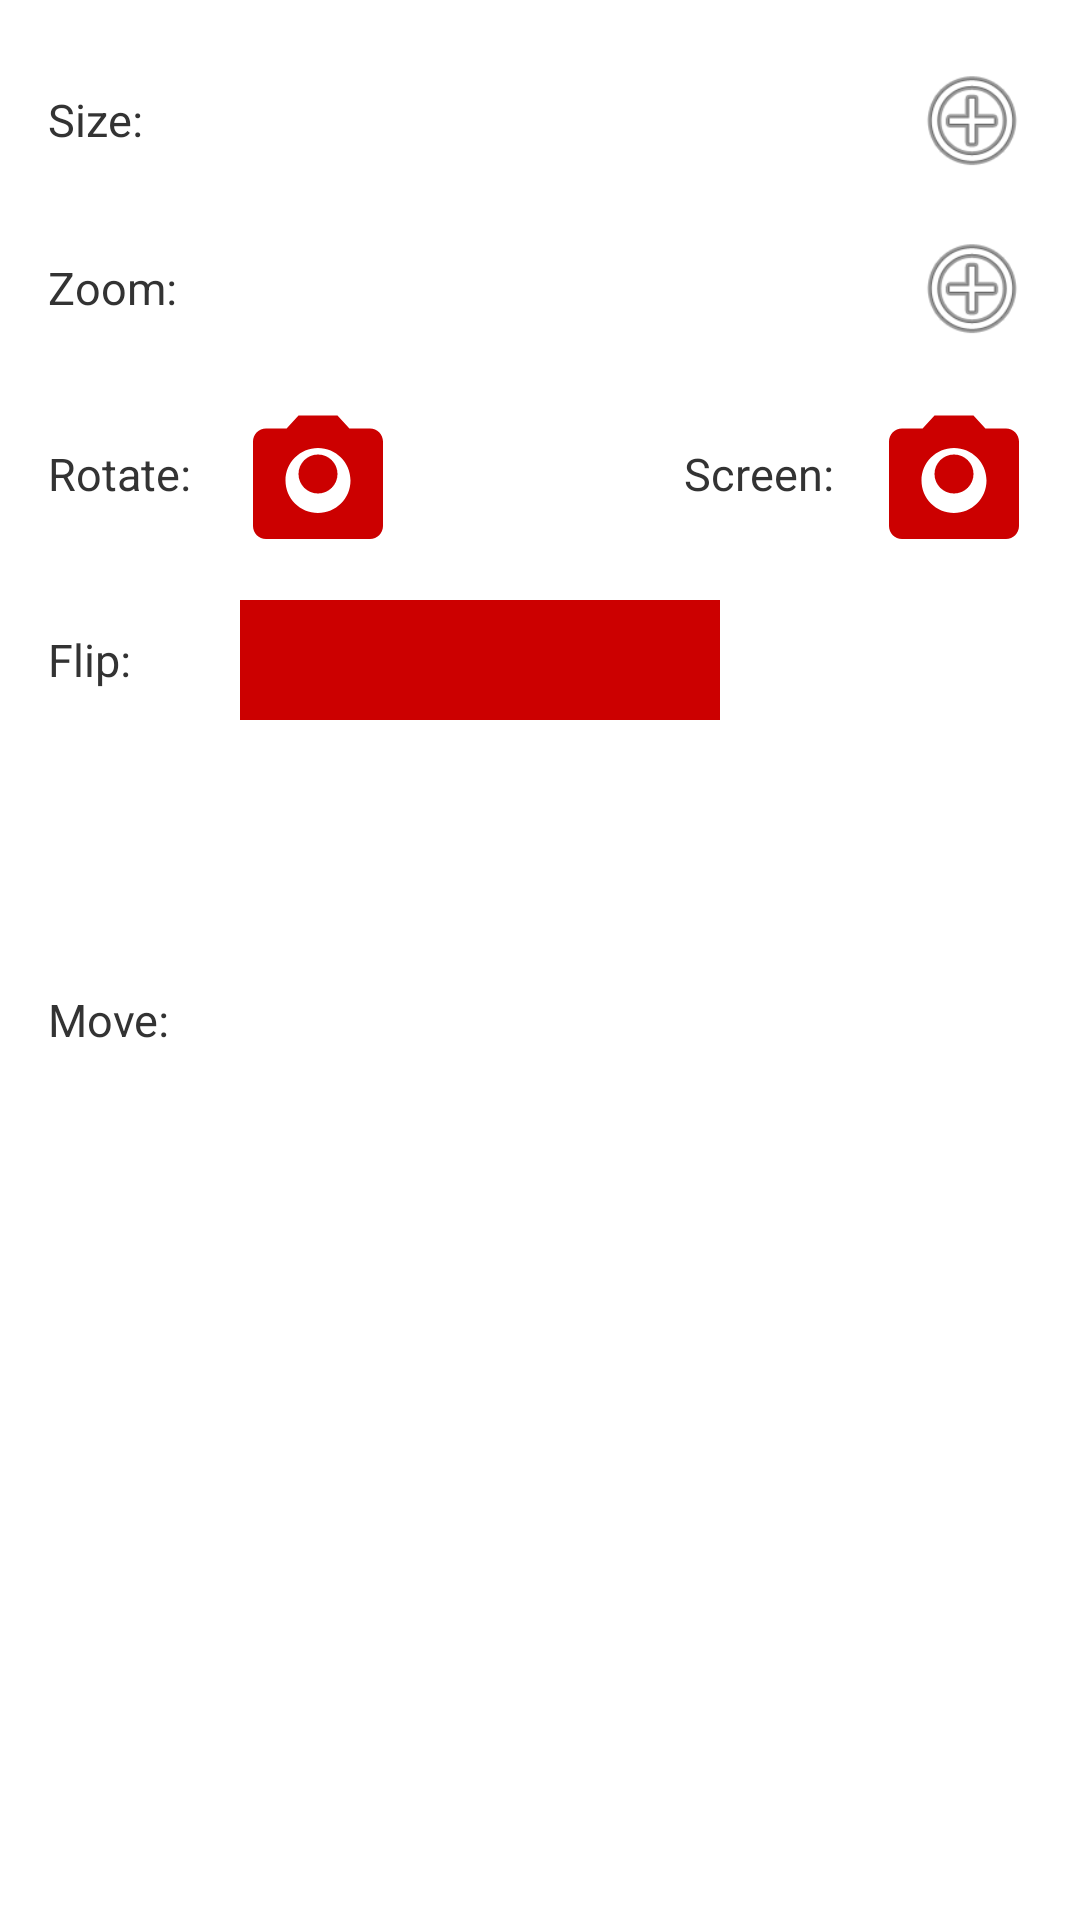

Named icons in this screenshot (1080px×1920px) and their centers, [x,y]:
add: [972,120], [972,288]
camera: [318,477], [954,477]
